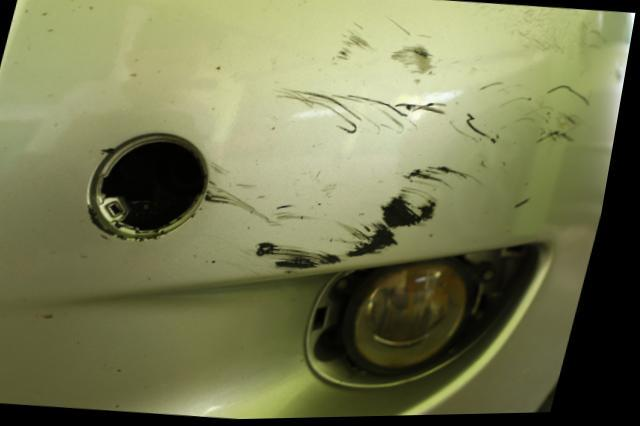scratch: (209, 0, 617, 275)
